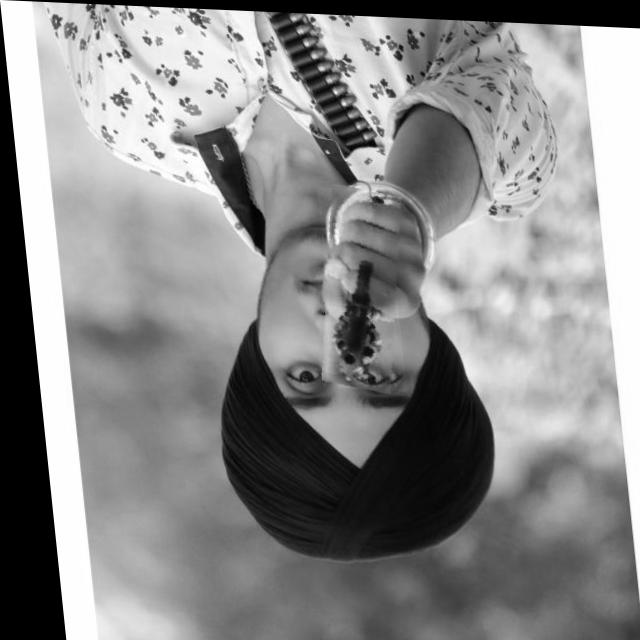handgun: (306, 182, 406, 390)
